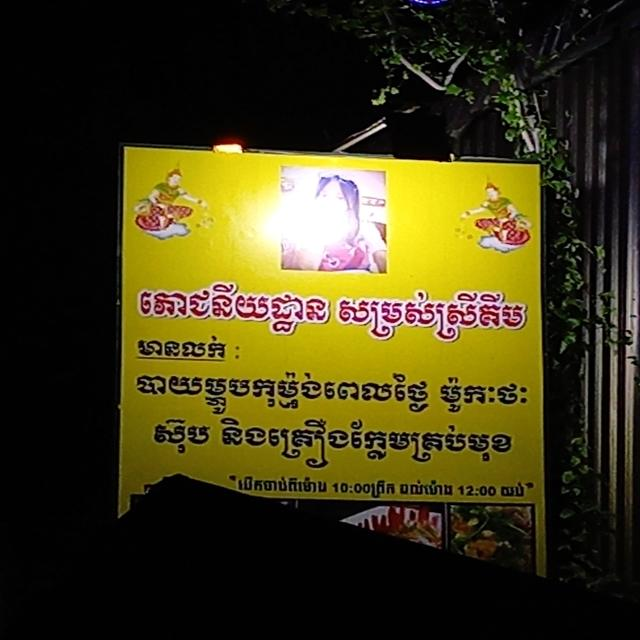1: (135, 281, 527, 341), (147, 414, 525, 468), (134, 366, 530, 415)
109: (232, 473, 532, 504)
Yolov11_80vkh: (135, 327, 227, 361)
